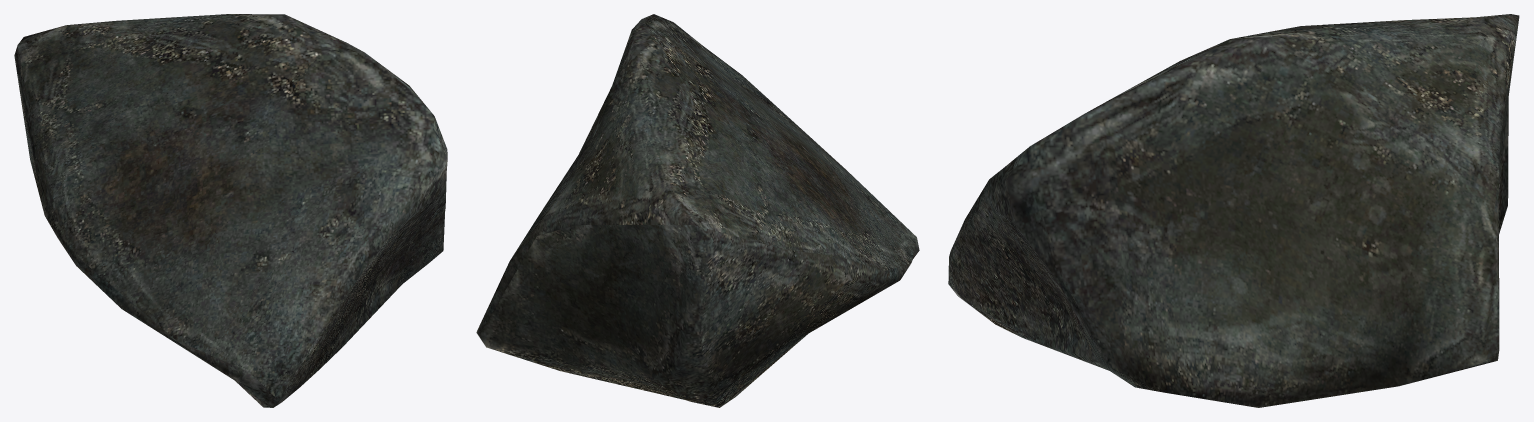
Rendered from ruins_blackstone_debris_tiny03.dae.
3 renders of one model, left to right at view 1: azimuth 30°, elevation 25°; view 2: azimuth 150°, elevation 25°; view 3: azimuth 270°, elevation 25°, orthographic. The views are drawn at different scales.
Visible parts, largest first — view 1: 03; view 2: 03; view 3: 03.
Part boxes in pixels (bbox=[...]): 03: bbox=[14, 14, 447, 407]; 03: bbox=[476, 14, 919, 407]; 03: bbox=[948, 14, 1519, 407].
Bounding box in the file's own units: 0.247 × 0.2136 × 0.295.
